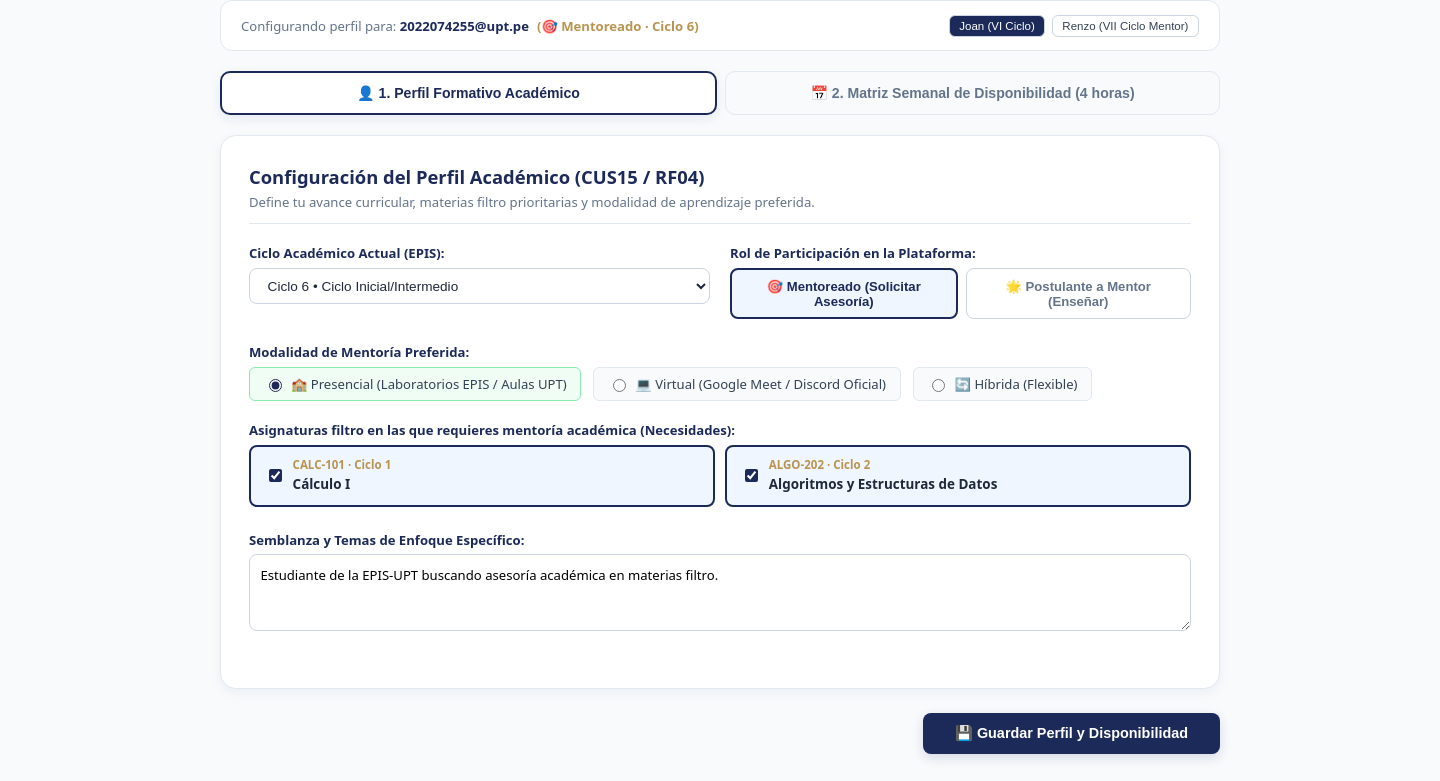
Test case: ProfileAvailabilityView Component (T-11 / RF04 / CUS15) › 5. Guarda exitosamente el perfil y muestra notificación de confirmación
This screenshot has width=1440, height=781.
Click the button "💾 Guardar Perfil y Disponibilidad".
click(1071, 734)  # box [923, 713, 1220, 754]
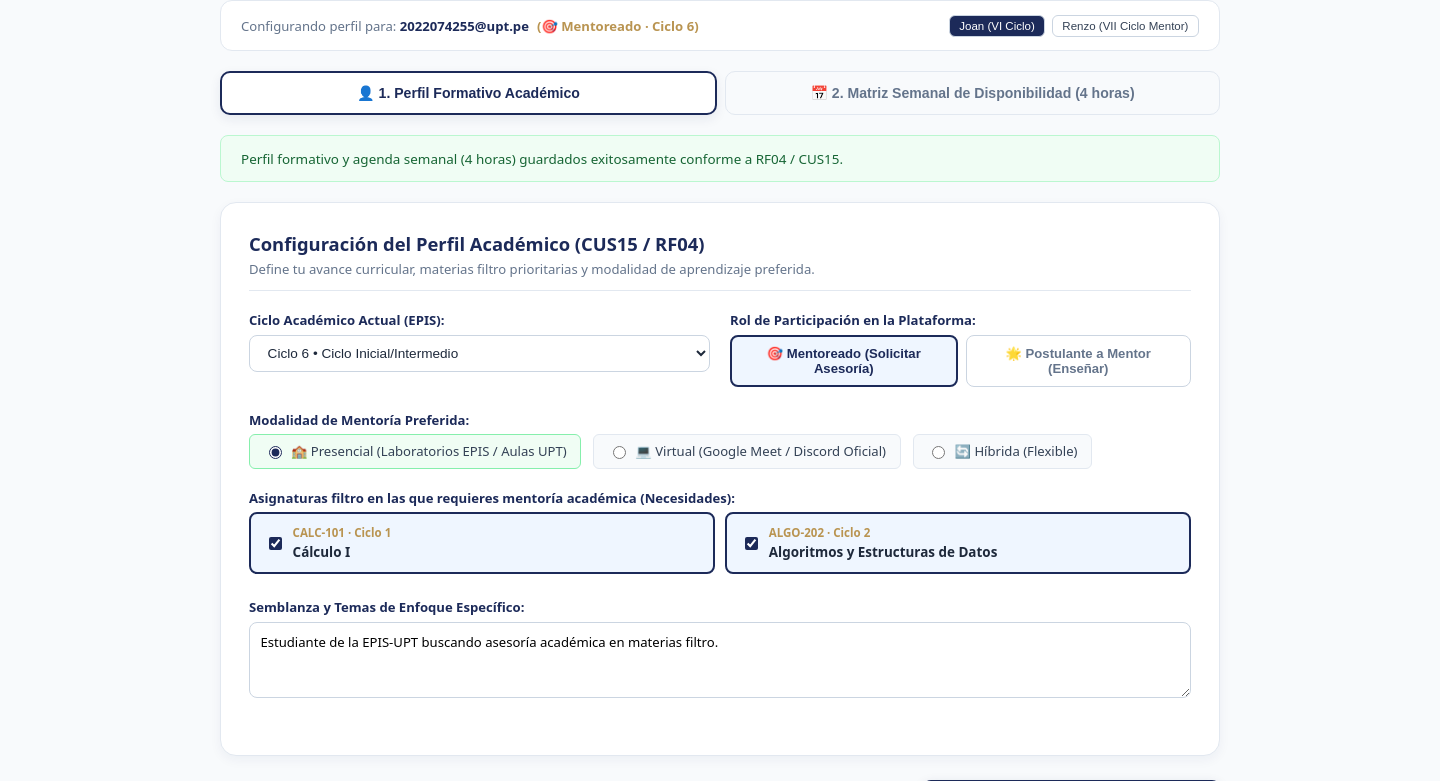
Now the text "guardados exitosamente" is shown, box [241, 150, 843, 168]
